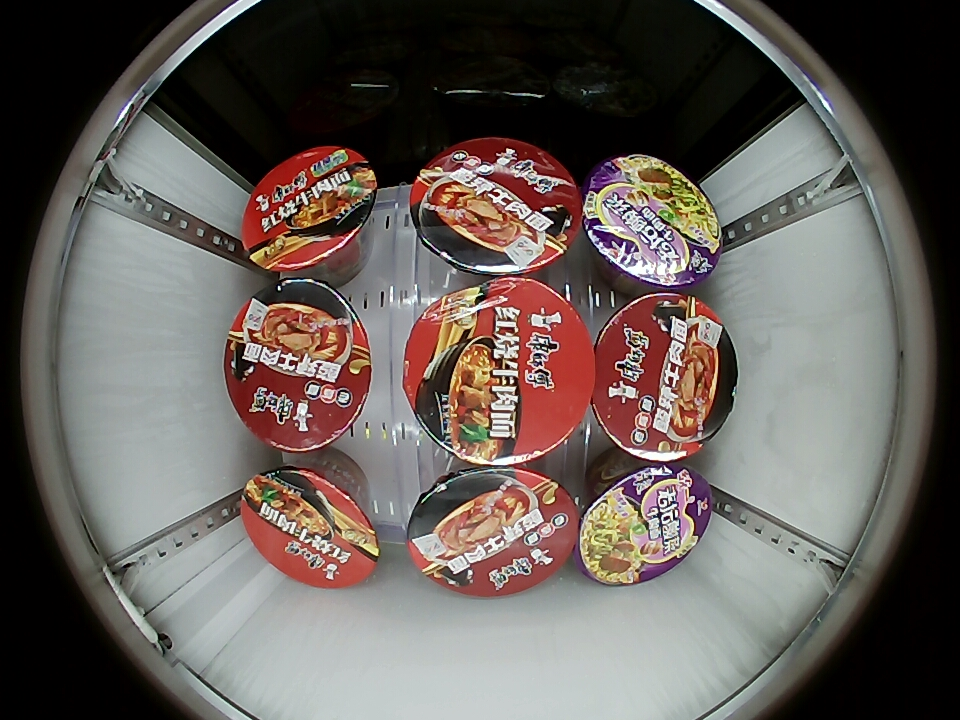hongshaoniurou: (402, 278, 597, 466), (242, 146, 378, 274), (241, 464, 381, 588)
laotansuancai: (580, 154, 722, 291), (575, 459, 713, 586)
suanlaniurou: (226, 280, 374, 453), (592, 292, 737, 460), (409, 137, 582, 277), (407, 467, 580, 596)
